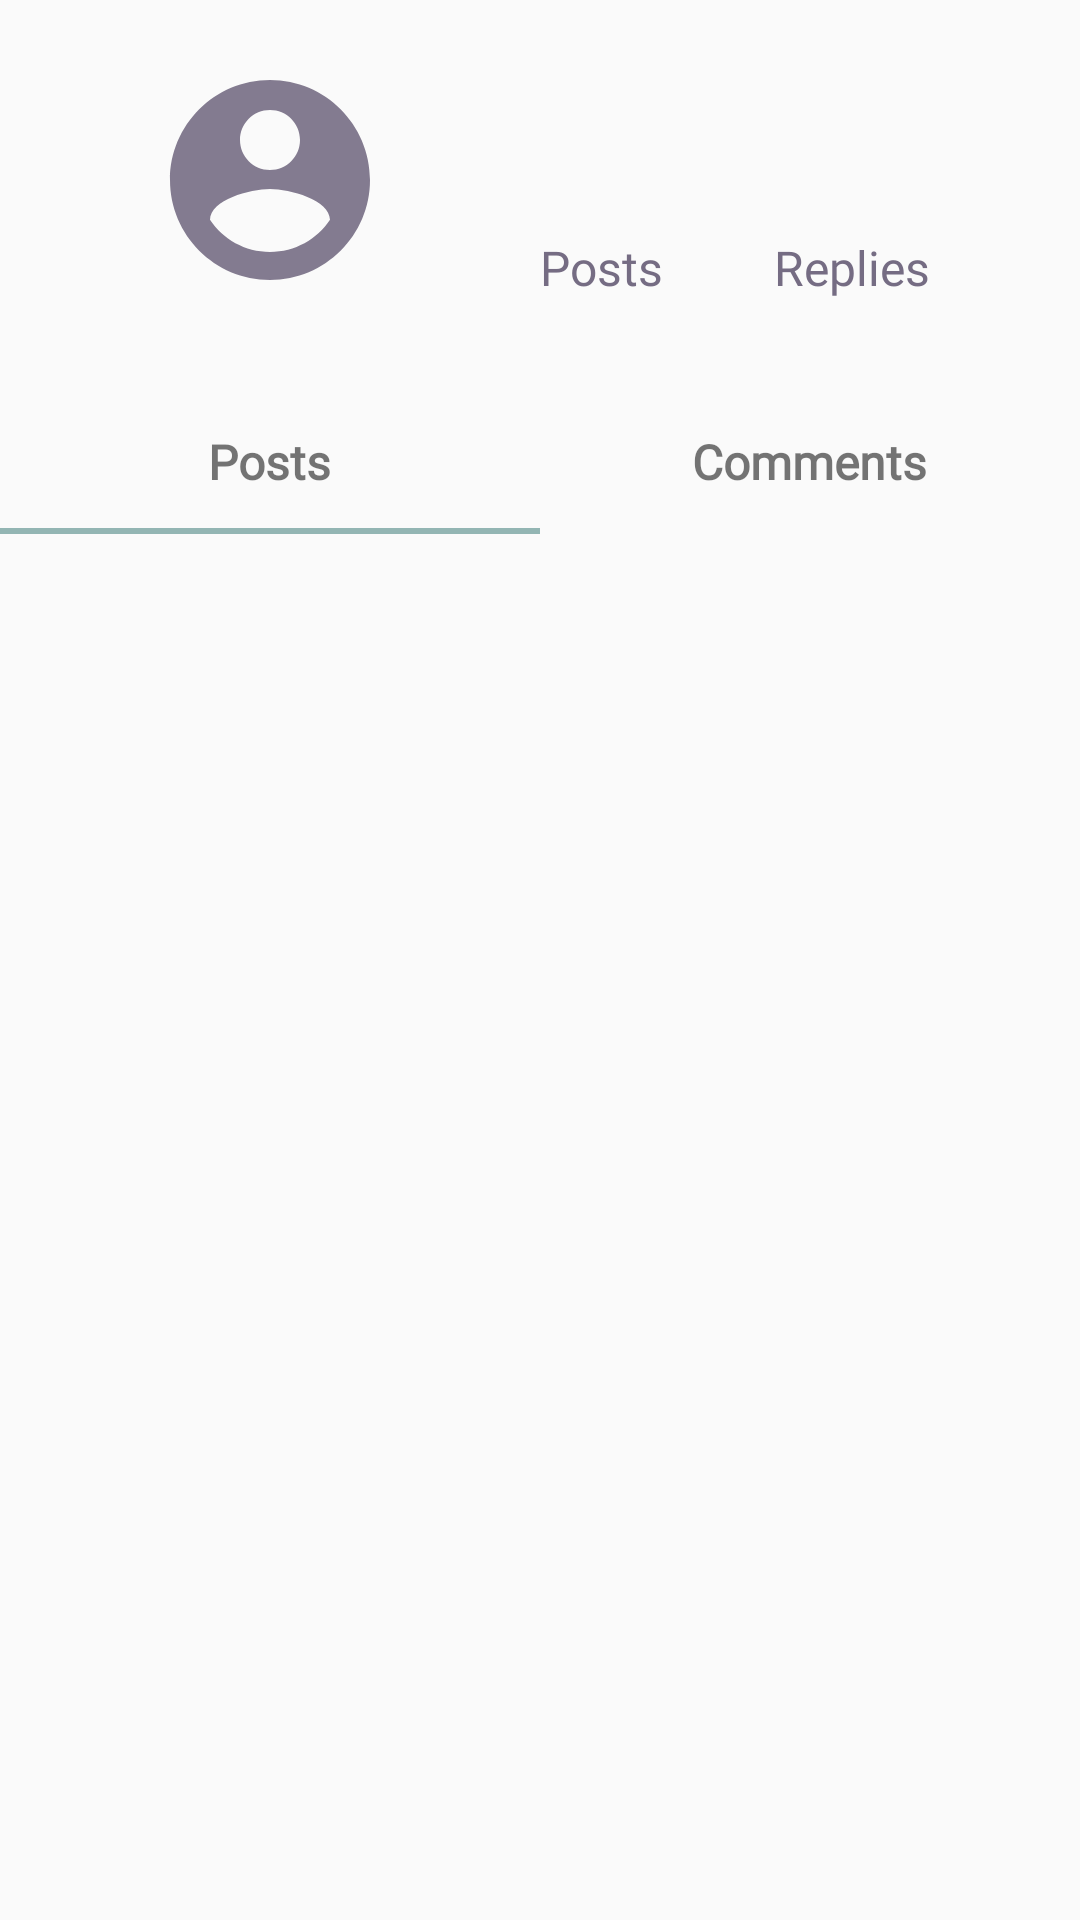

Icon bounding boxes for this 1080x1920 phone screenshot, format (x1,y1,x2,y2):
account circle: (170,80,370,280)
